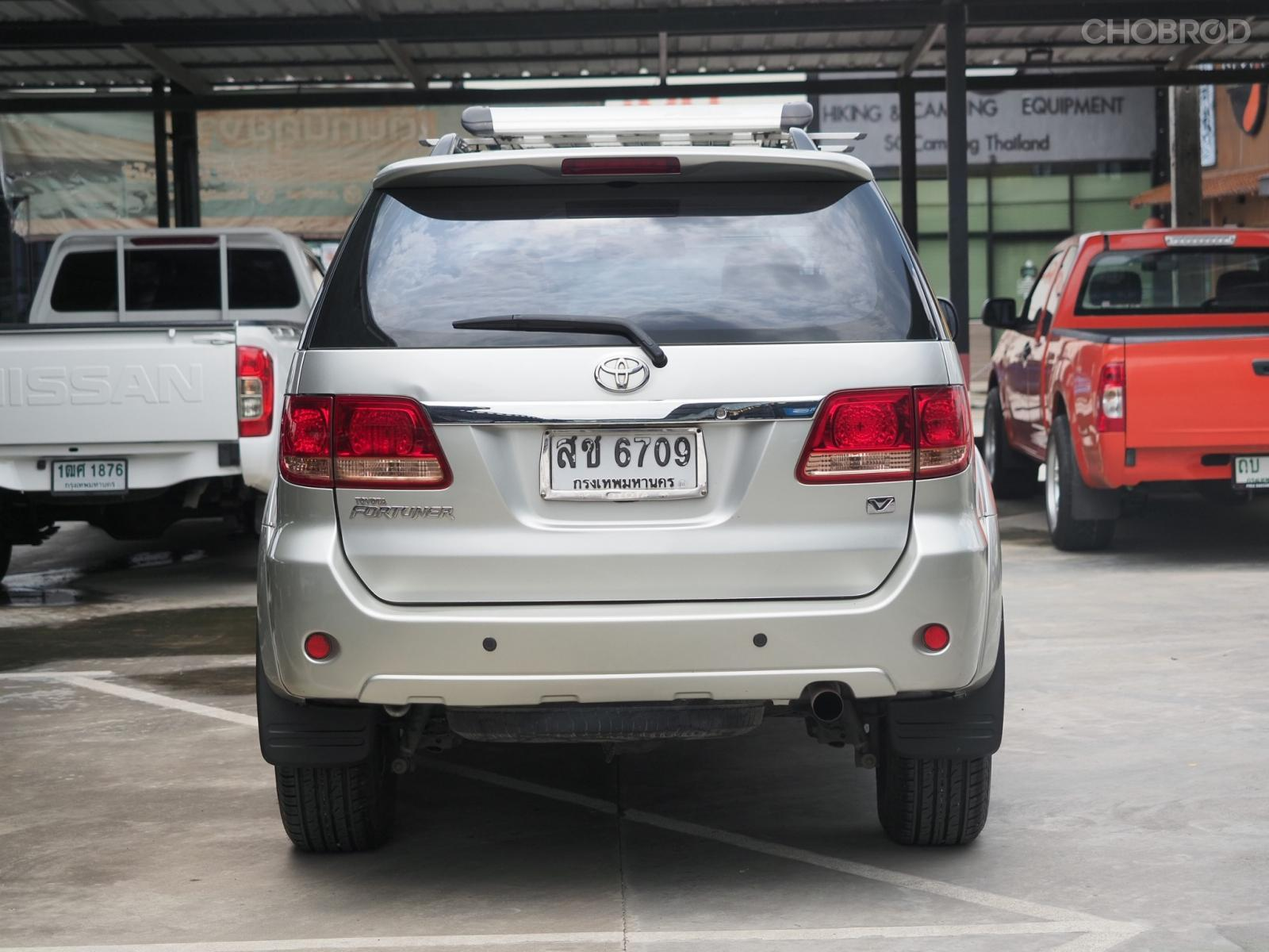license-plate: (538, 424, 711, 500), (45, 455, 133, 495), (1234, 451, 1269, 492)
